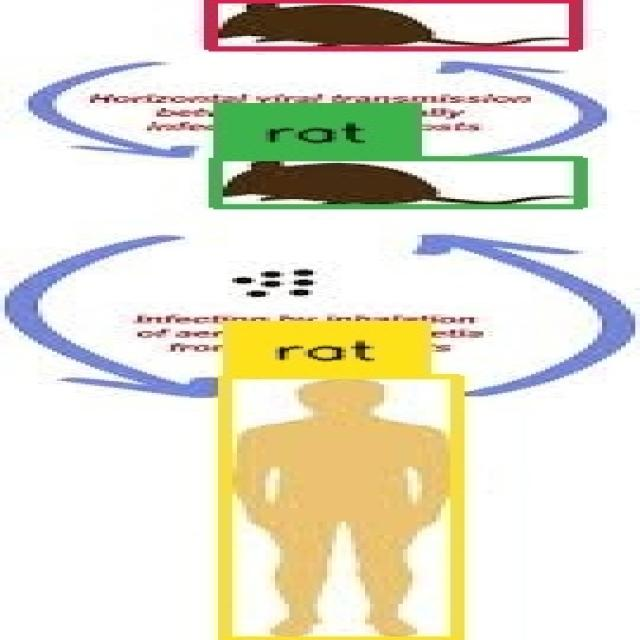rat: (225, 377, 458, 639), (211, 1, 576, 49), (215, 158, 580, 206)
